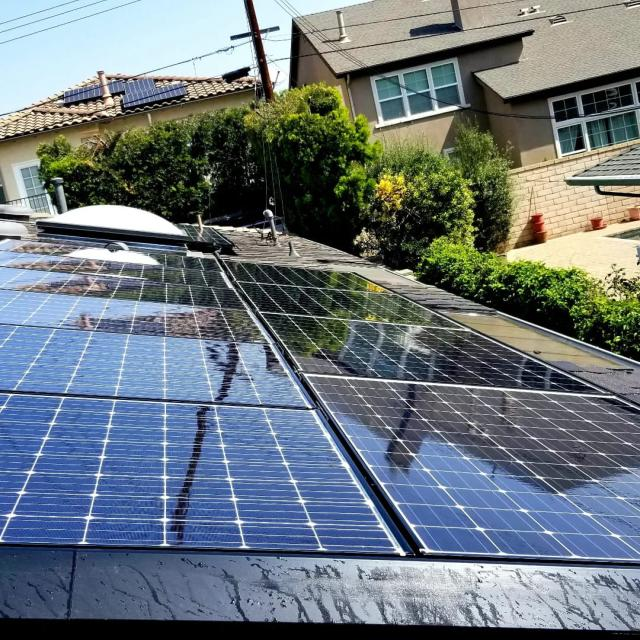clean-solar-panel: (1, 224, 640, 631)
